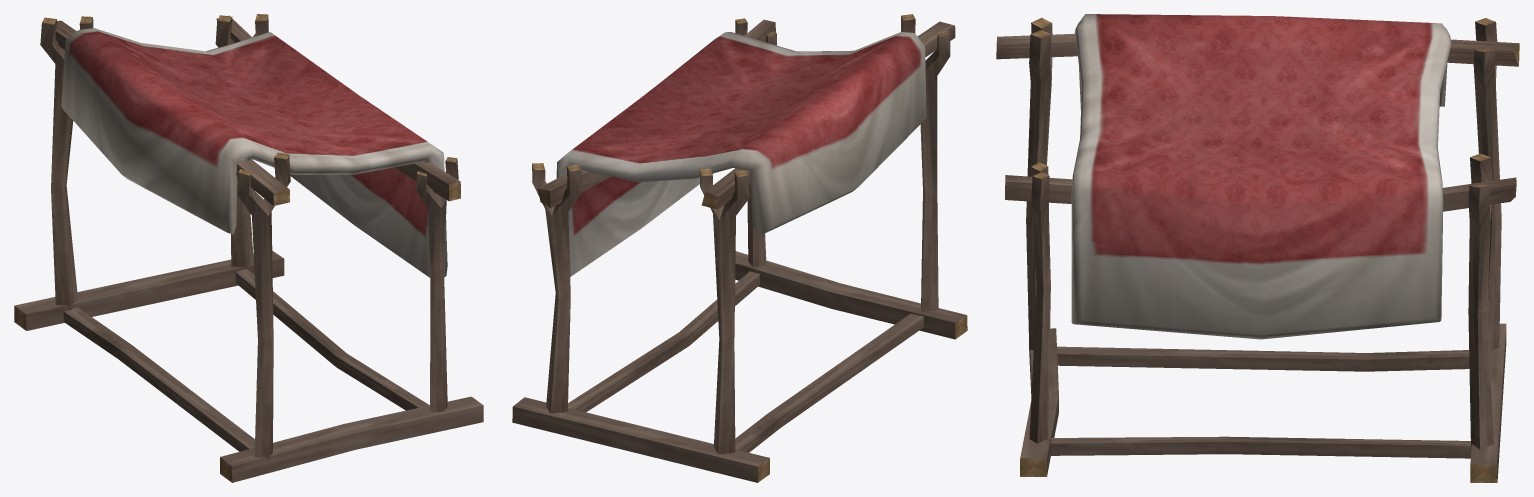
File: handan_field_a_e01e.fbx
3 renders of one model, left to right at view 1: azimuth 30°, elevation 25°; view 2: azimuth 150°, elevation 25°; view 3: azimuth 270°, elevation 25°, orthographic. The views are drawn at different scales.
Parts seen in each view (by area): view 1: polymsh; view 2: polymsh; view 3: polymsh.
Boxes of the visible parts, x1,y1,x2,y2 form: polymsh: [14, 14, 483, 482]; polymsh: [512, 14, 967, 482]; polymsh: [996, 14, 1519, 482].
Bounding box in the file's own units: 209 × 247 × 337.
